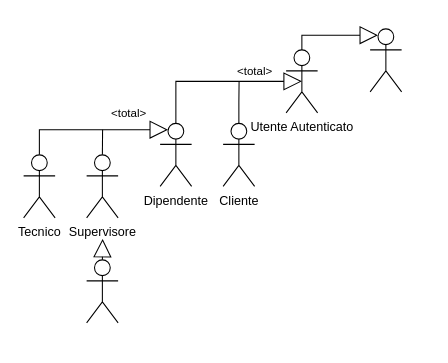
The diagram is 448 pixels wide and 363 high, and some of its shapes have lost their labels. The centre of each missing label's shape, as x and y in pixels:
"Amministratore" belongs at pixel 102 291.
"Utente Anonimo" belongs at pixel 385 60.
